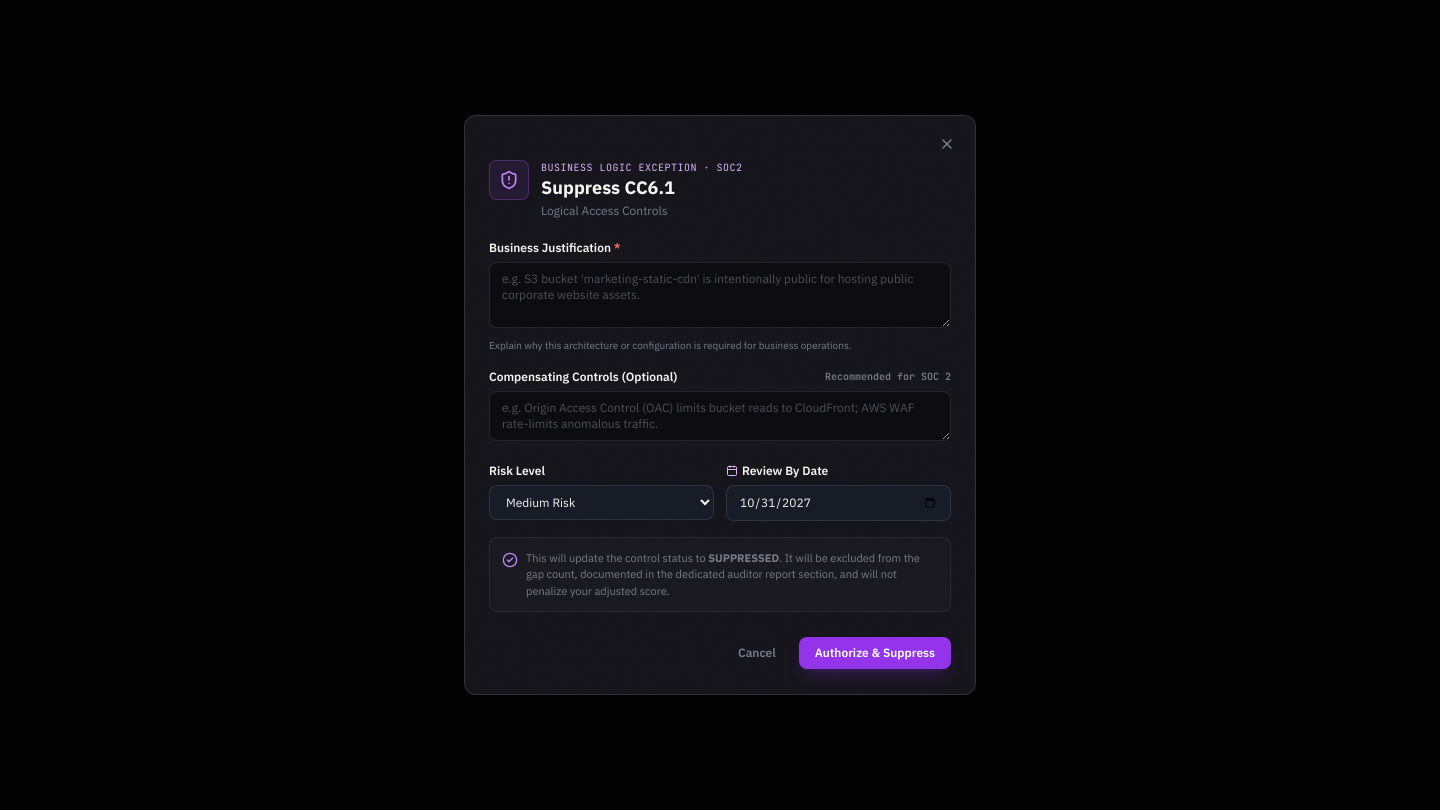
Test: SuppressFindingModal › displays validation error if justification is too short
Replace the text in the text box labelled "Business Justification *" with "abc" at [720, 295], box [489,262,951,328]
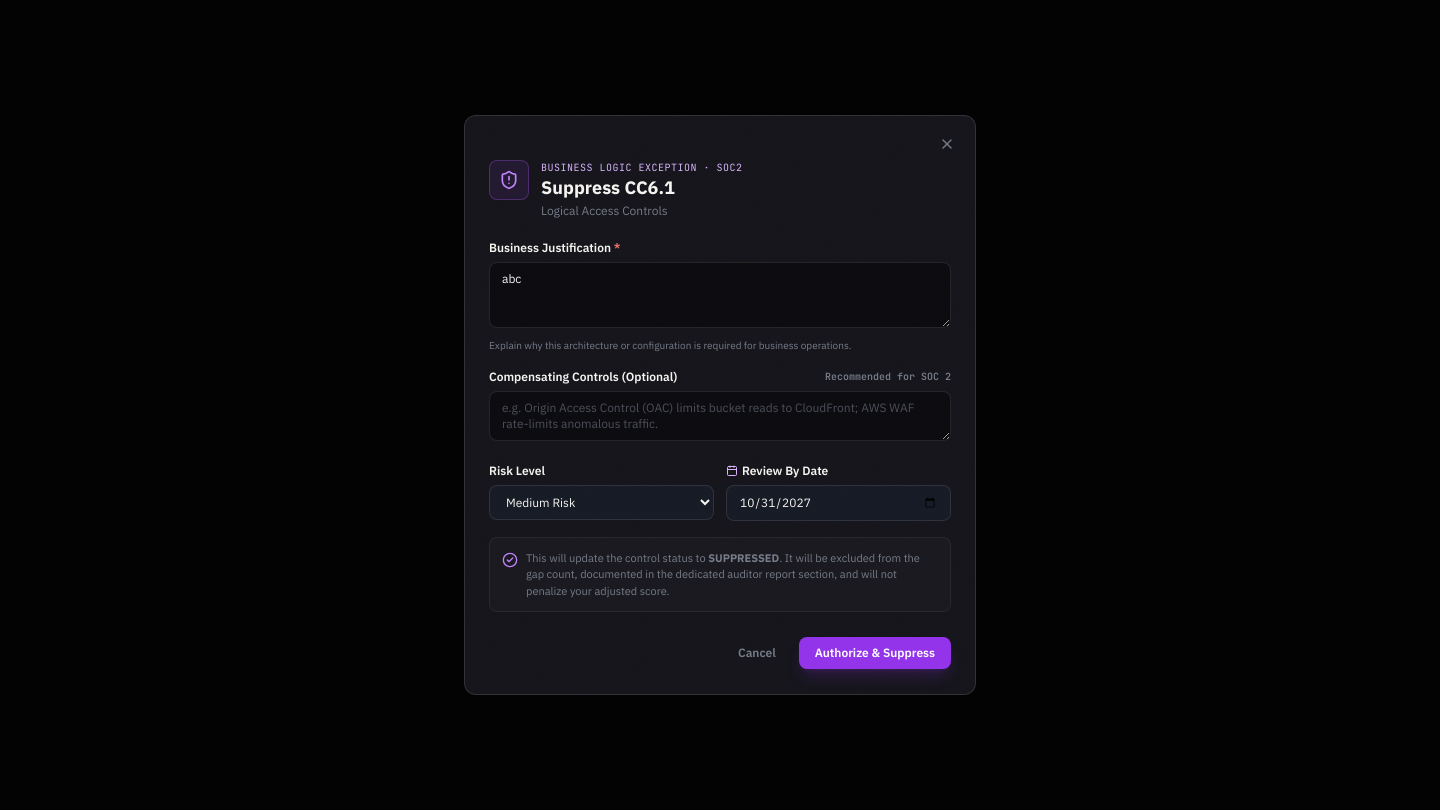
Click the button "Authorize & Suppress" at [875, 653], box [799,637,951,669]
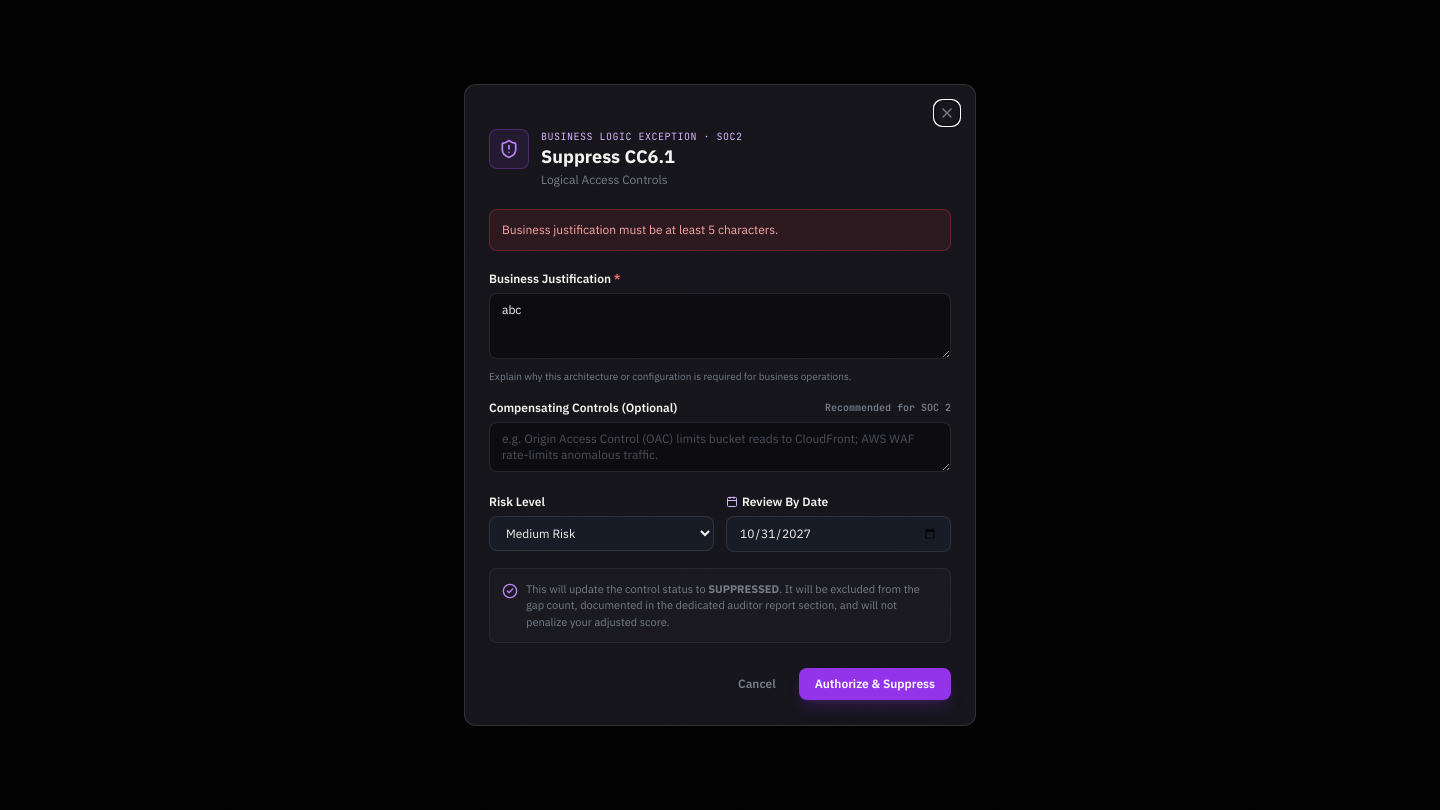
Expected: the text "Business justification must be at least 5 characters." is shown, [489,209,951,251]
